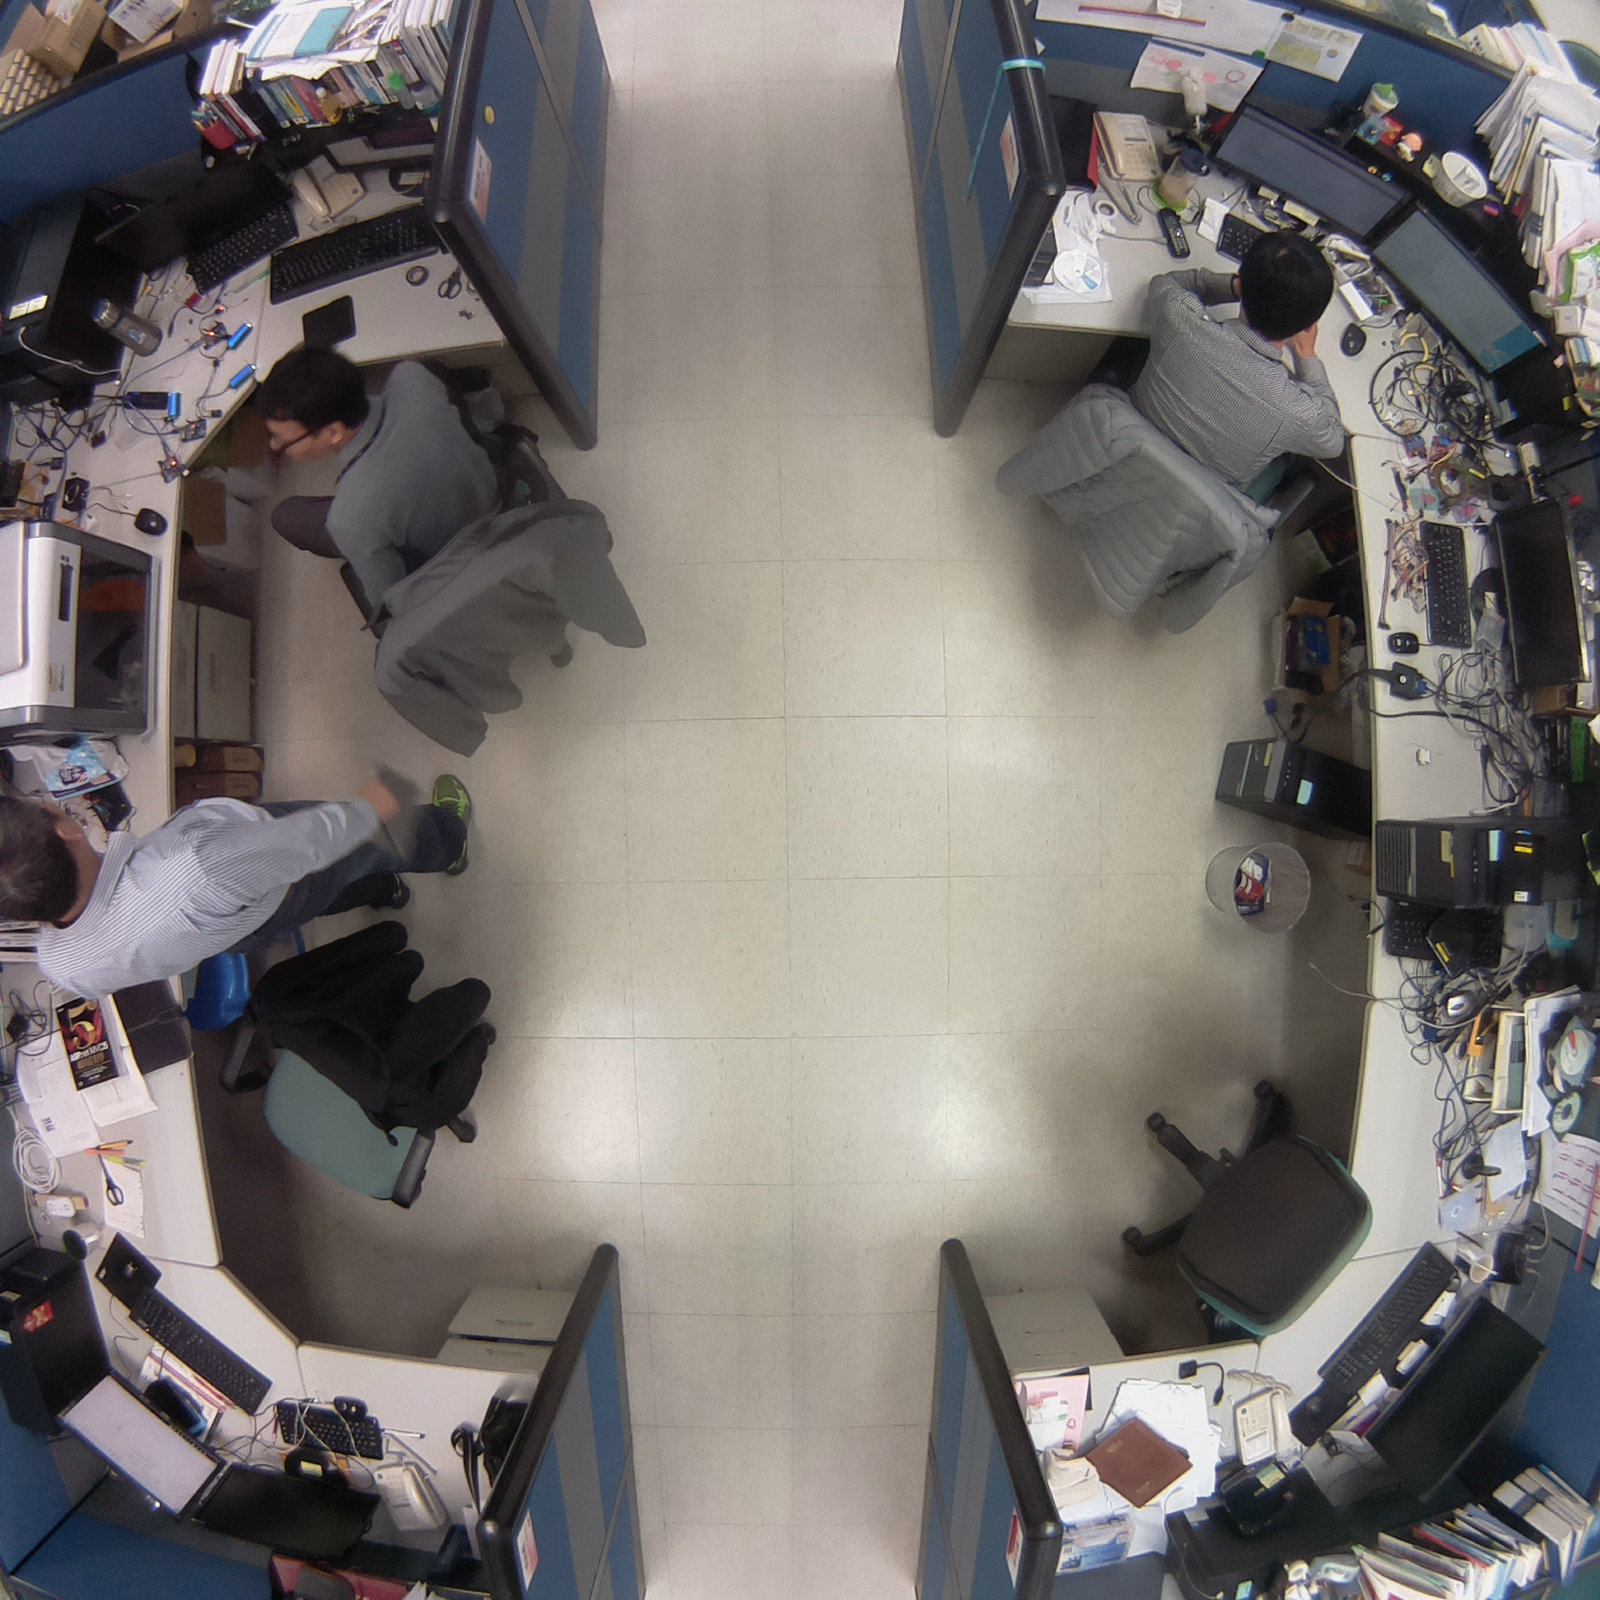chair: (212, 913, 529, 1226), (1100, 1064, 1389, 1352)
sitting: (220, 330, 541, 651), (1133, 233, 1366, 504)
standing: (1, 749, 504, 1004)
